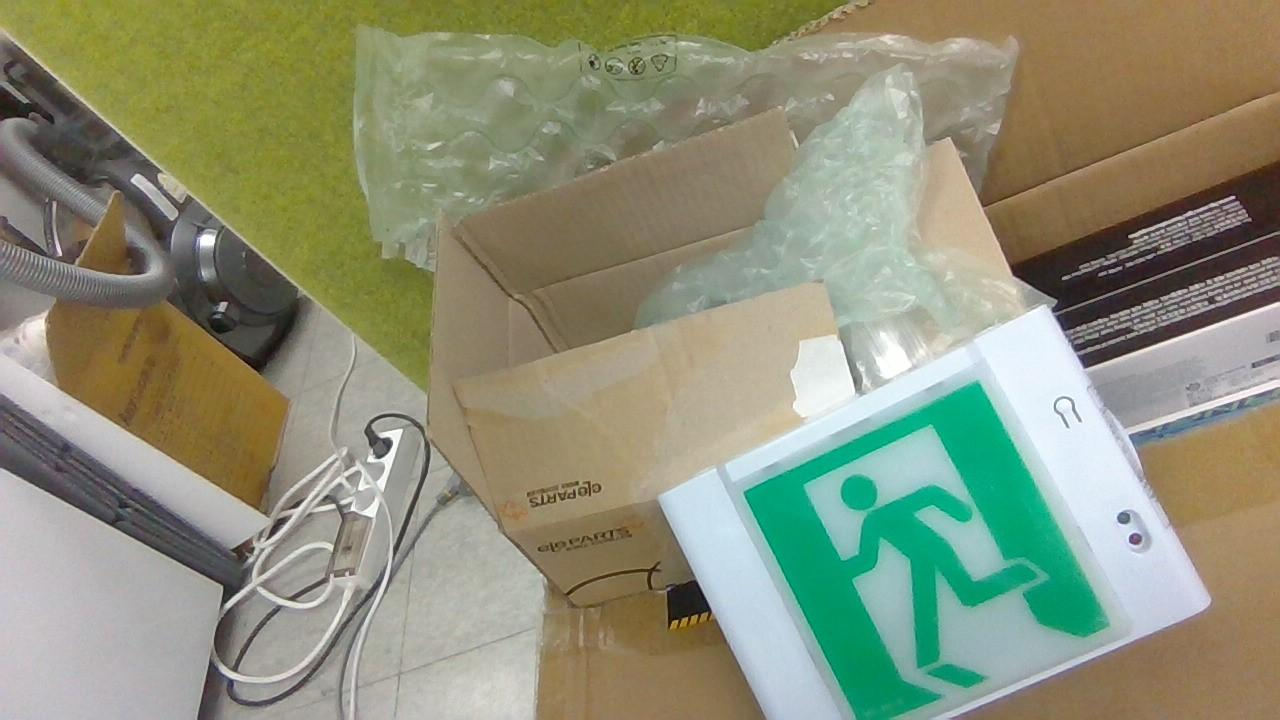emergency_exit: (704, 304, 1212, 718)
